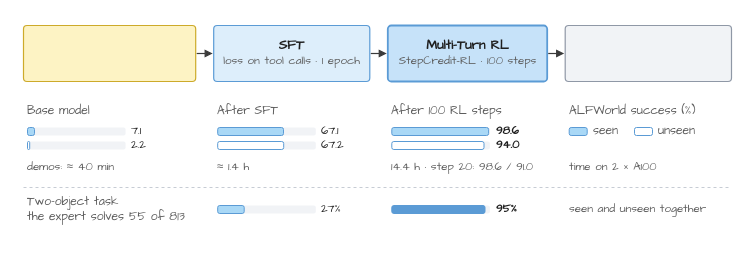
The diagram is 754 pixels wide and 272 high, and some of its shapes have lost their labels. The shapes that lost their labels are listed below. From the top down, each one's centre as x and y in pixels, then its label:
the point at 109,53: Expert Demonstrations 2,145 of 3,553 games solved
the point at 648,53: Paired Evaluation same tasks · McNemar test
